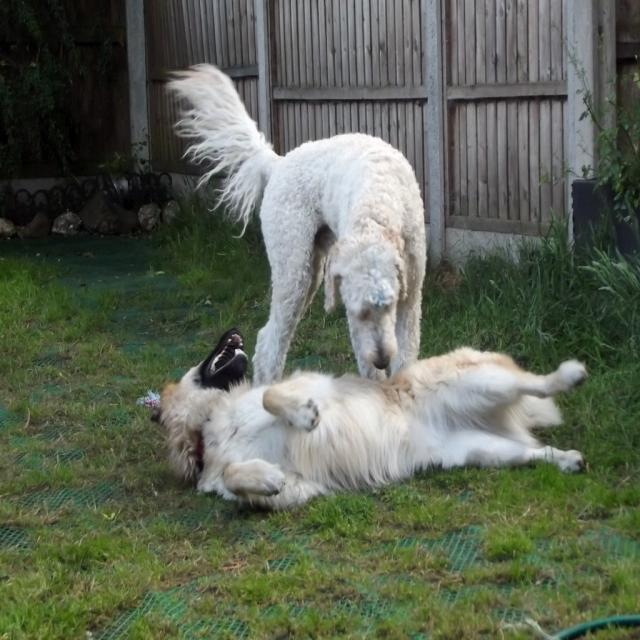Dog: (162, 58, 426, 376), (150, 326, 588, 512)
